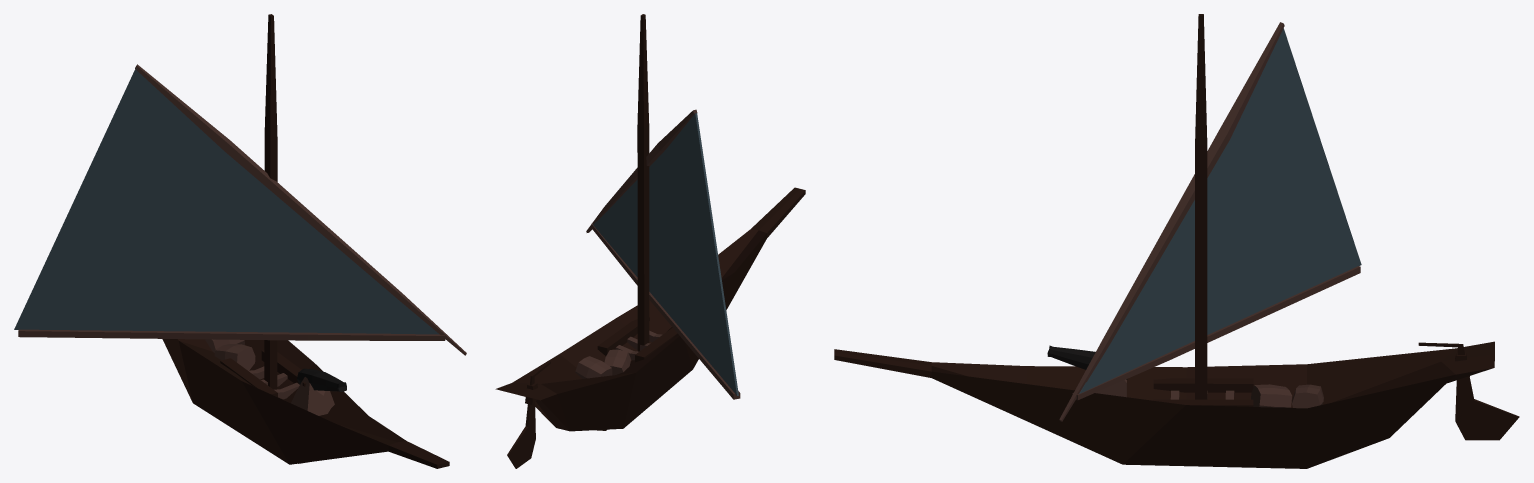
File: Cannon_boat.fbx
3 renders of one model, left to right at view 1: azimuth 30°, elevation 25°; view 2: azimuth 150°, elevation 25°; view 3: azimuth 270°, elevation 25°, orthographic. The views are drawn at different scales.
Parts seen in each view (by area): view 1: Cube.009, Cube, Cube.002, Cube.010, Cube.001, Cube.014, Cube.013, Cube.016, Cube.004; view 2: Cube.009, Cube, Cube.001, Cube.010, Cube.011, Cube.002, Cube.017, Cube.003, Cube.016, Cube.004; view 3: Cube, Cube.009, Cube.001, Cube.002, Cube.011, Cube.010, Cube.004, Cube.016, Cube.013.
Part boxes in pixels (x1,y1,x2,y2): Cube.009: (14,68,438,334); Cube: (162,339,449,468); Cube.002: (135,64,466,355); Cube.010: (18,329,445,340); Cube.001: (264,14,277,389); Cube.014: (291,377,334,415); Cube.013: (297,368,346,391); Cube.016: (214,344,255,370); Cube.004: (220,358,277,397); Cube.009: (593,113,738,395); Cube: (495,187,805,431); Cube.001: (637,14,649,351); Cube.010: (591,223,740,399); Cube.011: (507,361,550,468); Cube.002: (586,109,697,232); Cube.017: (575,356,612,378); Cube.003: (597,317,649,355); Cube.016: (604,349,630,375); Cube.004: (635,327,677,362); Cube: (834,341,1494,468); Cube.009: (1079,28,1361,393); Cube.001: (1195,14,1207,399); Cube.002: (1059,22,1284,421); Cube.011: (1418,342,1519,440); Cube.010: (1072,266,1360,400); Cube.004: (1153,378,1253,392); Cube.016: (1251,384,1291,407); Cube.013: (1047,345,1127,379).
Bounding box in the file's own units: 1724 × 2255 × 3110.
